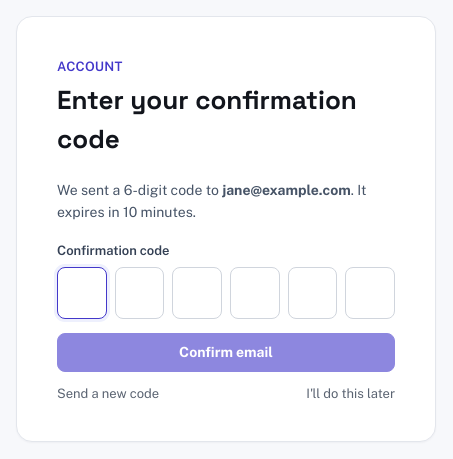
Test case: ConfirmEmail › submits the typed code against the signed-in address
Step 1. Type "481902" into the field named "Digit 1 of 6" → x=82, y=293, box [57,267,107,319]
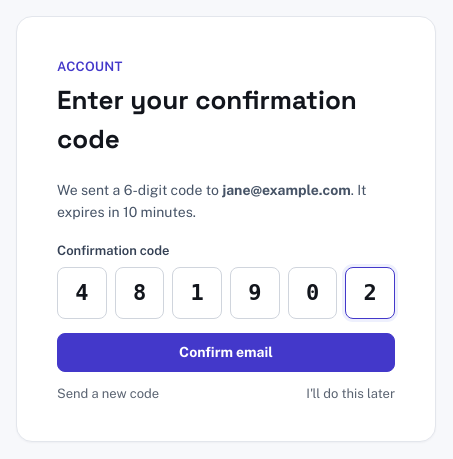
Step 2. Click the button "Confirm email" → x=226, y=352, box [57,333,395,372]
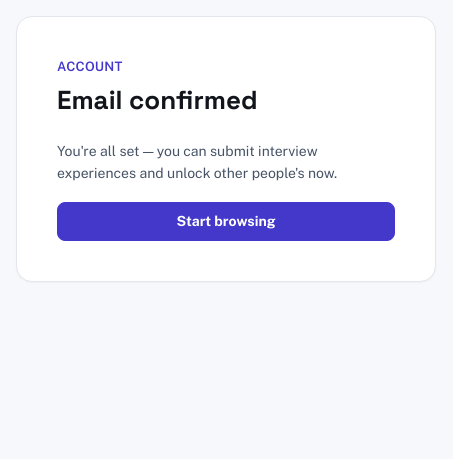
Check: the text "Email confirmed" is shown, box [57,82,258,116]
